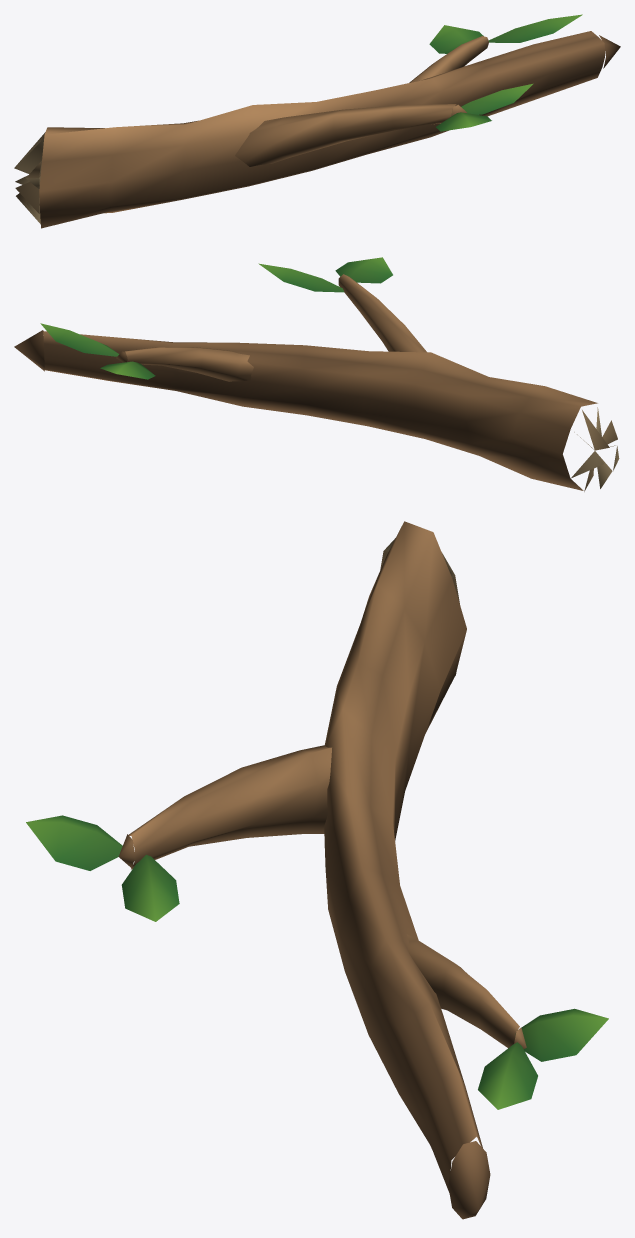
The model's file is node-branch-v2.glb.
3 renders of one model, top to bottom at view 1: azimuth 30°, elevation 25°; view 2: azimuth 150°, elevation 25°; view 3: azimuth 270°, elevation 25°, orthographic. The views are drawn at different scales.
Visible parts, largest first — view 1: 0_branch; view 2: 0_branch; view 3: 0_branch.
Part boxes in pixels (left/top/right/bottom): 0_branch: left=14, top=14, right=620, bottom=228; 0_branch: left=14, top=257, right=619, bottom=491; 0_branch: left=26, top=521, right=608, bottom=1219.
Size of the model in its own units: 0.9935 by 0.1509 by 0.4255.
